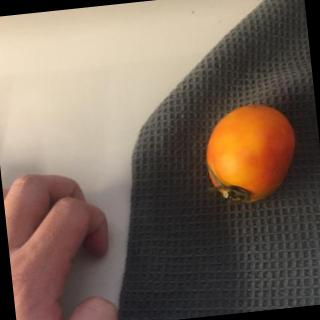Tomat: (188, 90, 305, 213)
